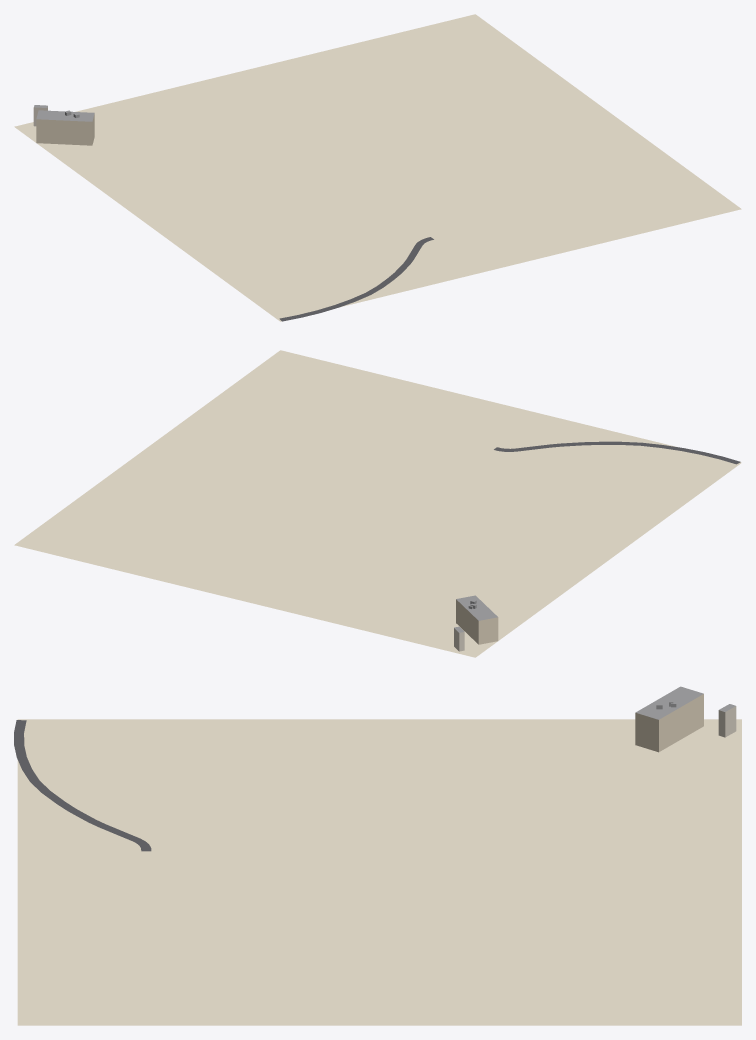
File: tile_5_6.glb
3 views of the same model, one above another, from view 1: azimuth 30°, elevation 25°; view 2: azimuth 150°, elevation 25°; view 3: azimuth 270°, elevation 25° (orthographic). The views are drawn at different scales.
Parts seen in each view (by area): view 1: nature_ground, buildings_sandstone, roads_asphalt, buildings_roof; view 2: nature_ground, buildings_sandstone, roads_asphalt, buildings_roof; view 3: nature_ground, buildings_sandstone, roads_asphalt, buildings_roof.
Part boxes in pixels (bbox=[...]): nature_ground: bbox=[14, 14, 741, 321]; buildings_sandstone: bbox=[36, 114, 94, 145]; roads_asphalt: bbox=[279, 237, 433, 321]; buildings_roof: bbox=[34, 105, 94, 121]; nature_ground: bbox=[14, 350, 741, 657]; buildings_sandstone: bbox=[456, 599, 498, 644]; roads_asphalt: bbox=[494, 441, 740, 464]; buildings_roof: bbox=[454, 595, 497, 632]; nature_ground: bbox=[17, 719, 741, 1025]; buildings_sandstone: bbox=[635, 694, 703, 752]; roads_asphalt: bbox=[14, 720, 151, 851]; buildings_roof: bbox=[636, 686, 735, 719].
Size of the model in its own units: 250 by 14.11 by 251.
